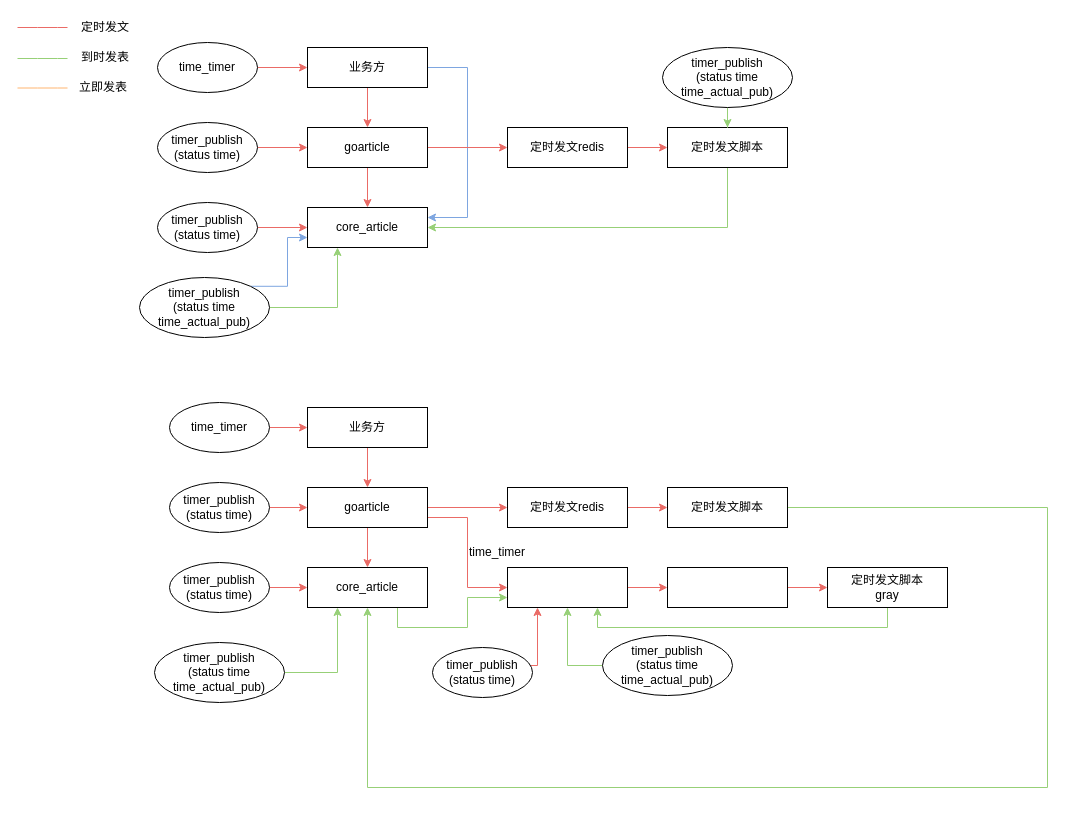
The diagram is 1073 pixels wide and 813 high, and some of its shapes have lost their labels. Each missing label, with the centre of its shape:
publish_item: point (567, 587)
定时发文gray_redis: point (727, 587)
